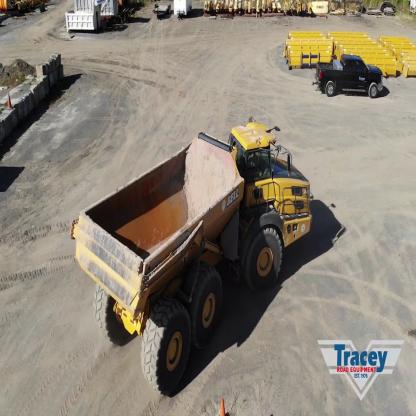dump_truck: (72, 118, 311, 367)
light_vehicle: (316, 48, 386, 106)
